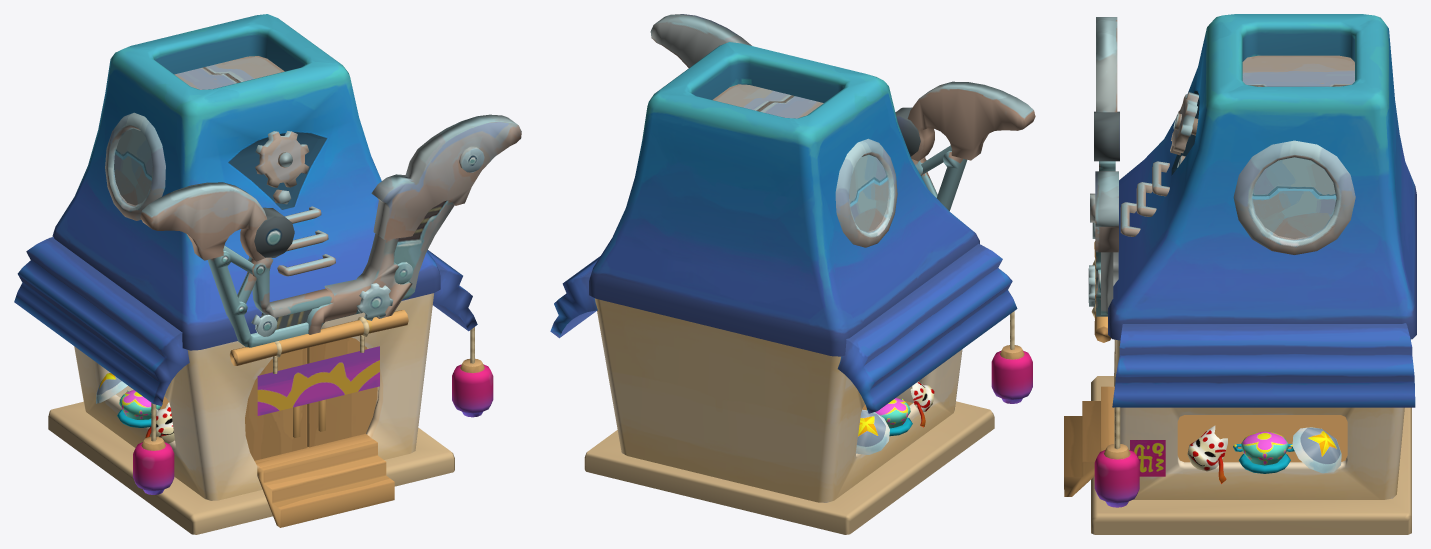
Rendered from SM_Armorsmith_lv3.fbx.
The picture shows the model from 3 angles, left to right: view 1: azimuth 30°, elevation 25°; view 2: azimuth 150°, elevation 25°; view 3: azimuth 270°, elevation 25°; orthographic projection. The views are drawn at different scales.
Visible parts, largest first — view 1: SM_ArmorSmith_lv3; view 2: SM_ArmorSmith_lv3; view 3: SM_ArmorSmith_lv3.
Part boxes in pixels (bbox=[...]): SM_ArmorSmith_lv3: bbox=[14, 14, 521, 534]; SM_ArmorSmith_lv3: bbox=[550, 14, 1035, 534]; SM_ArmorSmith_lv3: bbox=[1064, 14, 1416, 534].
Bounding box in the file's own units: 750 × 721 × 559.
Materials: 1 (1 with a texture image).
